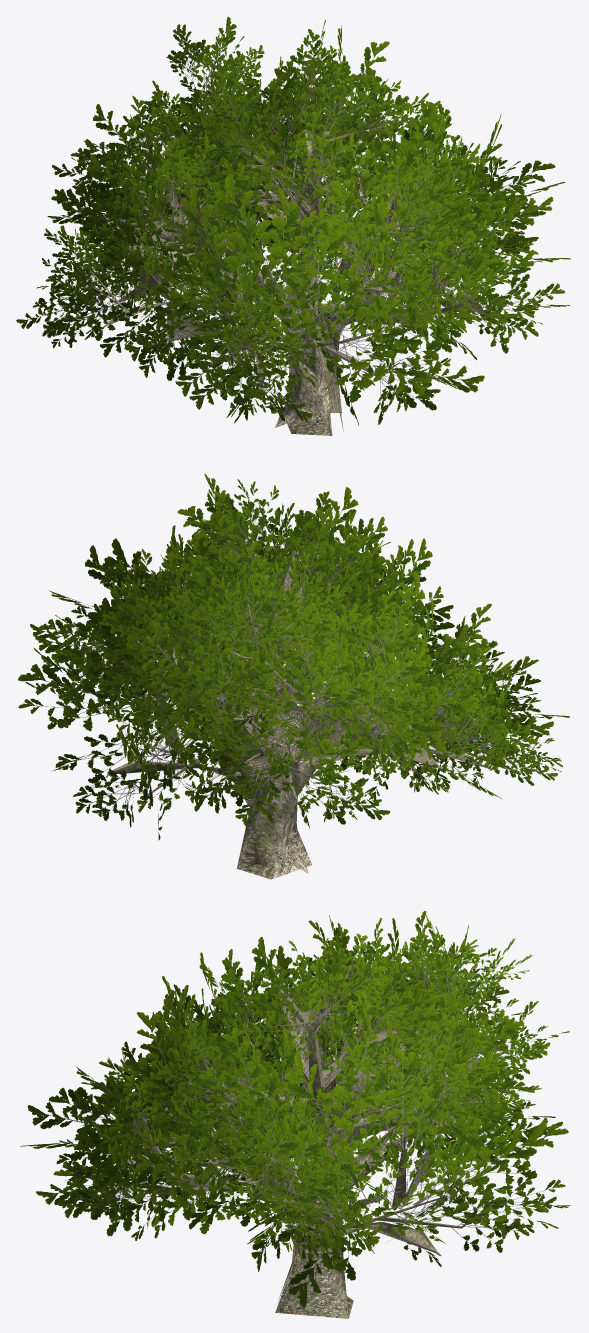
Rendered from arbol_mango.glb.
3 views of the same model, one above another, from view 1: azimuth 30°, elevation 25°; view 2: azimuth 150°, elevation 25°; view 3: azimuth 270°, elevation 25° (orthographic). The views are drawn at different scales.
Visible parts, largest first — view 1: lejos, cerca; view 2: lejos, cerca; view 3: cerca, lejos.
Boxes of the visible parts, box(x1,y1,x2,y2) form: lejos: box(16, 16, 570, 427); cerca: box(30, 34, 552, 435); lejos: box(18, 473, 569, 873); cerca: box(18, 479, 561, 879); cerca: box(52, 928, 571, 1318); lejos: box(20, 911, 569, 1310).
Bounding box in the file's own units: 13.62 × 9.34 × 12.09.
2 materials, 2 textured.
